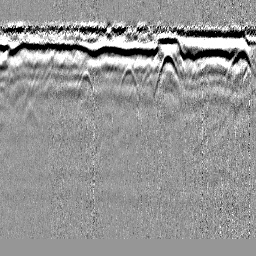cavity: (117, 62, 139, 94)
